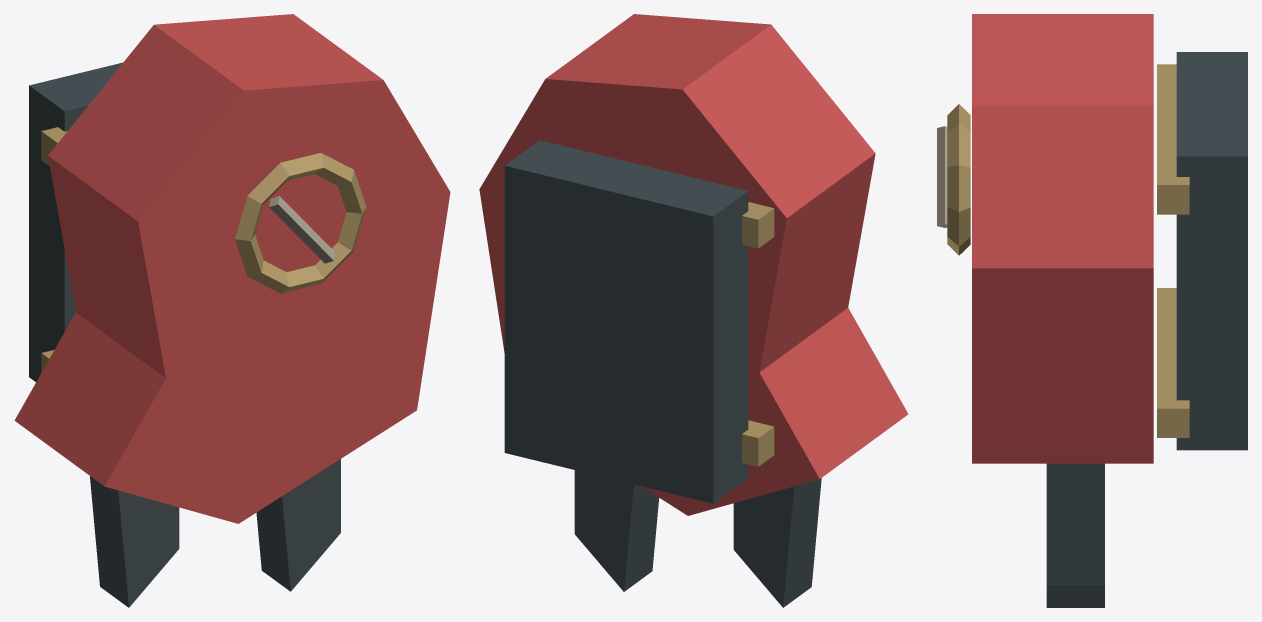
Rendered from Arsenal_BloodBallast.fbx.
The picture shows the model from 3 angles, left to right: view 1: azimuth 30°, elevation 25°; view 2: azimuth 150°, elevation 25°; view 3: azimuth 270°, elevation 25°; orthographic projection. The views are drawn at different scales.
Visible parts, largest first — view 1: Arsenal_BloodBallast; view 2: Arsenal_BloodBallast; view 3: Arsenal_BloodBallast.
Part boxes in pixels (bbox=[...]): Arsenal_BloodBallast: bbox=[14, 14, 450, 607]; Arsenal_BloodBallast: bbox=[479, 14, 908, 607]; Arsenal_BloodBallast: bbox=[937, 14, 1247, 607].
Size of the model in its own units: 0.31 by 0.47 by 0.2395.
